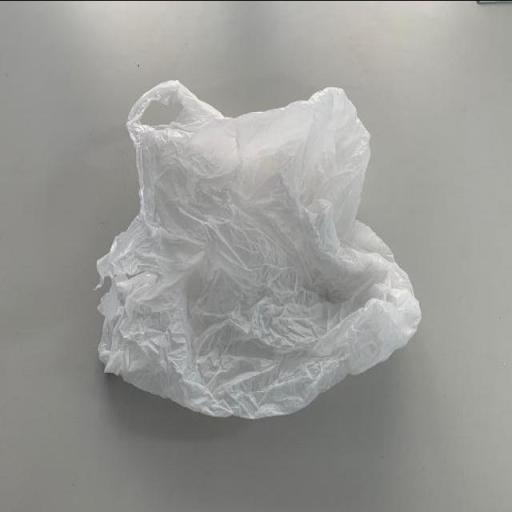plastic-bag: (89, 77, 428, 426)
